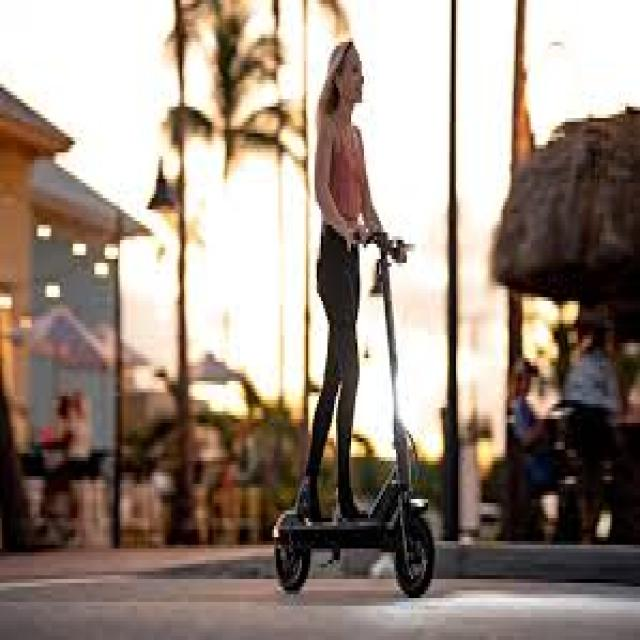non-helmet: (264, 22, 443, 621)
